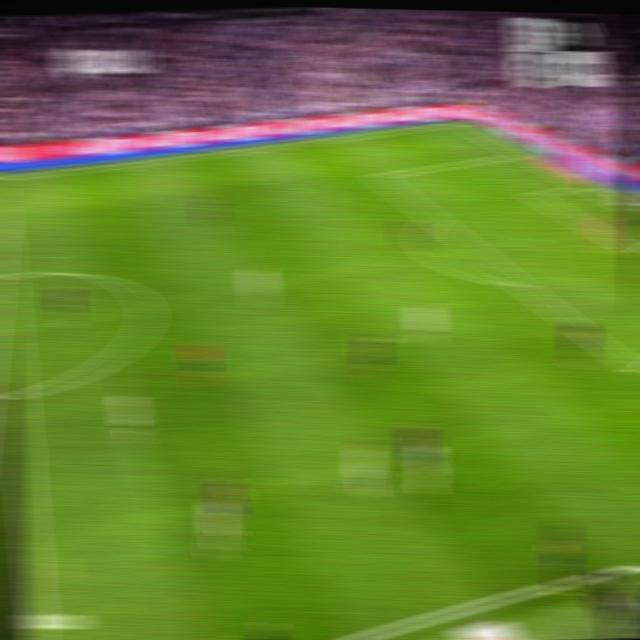bigarea_bottom_inner: (626, 358, 640, 382)
bigarea_top_inner: (371, 169, 388, 182)
bigarea_top_outter: (511, 148, 529, 158)
bottom_arc_area_intersection: (508, 275, 532, 293)
corner: (451, 119, 468, 126)
halfcircle_bottom: (6, 382, 29, 407)
halfcircle_top: (0, 264, 19, 287)
smallarea_top_inner: (526, 190, 544, 199)
top_arc_area_intersection: (424, 211, 444, 225)
